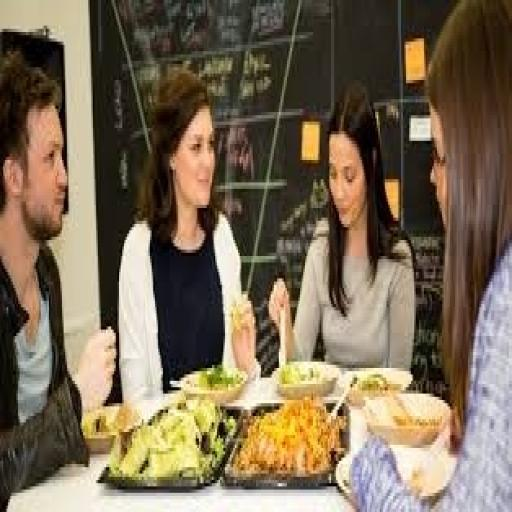eating: (0, 44, 117, 505), (116, 64, 259, 403)
